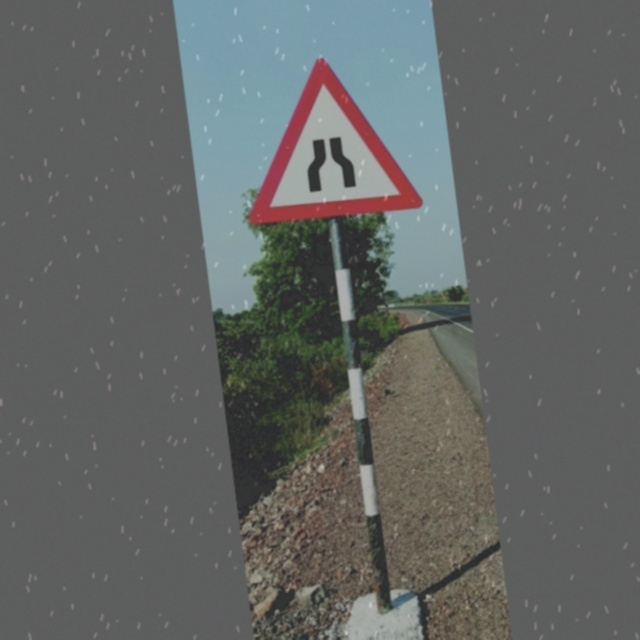Narrow_Road_Ahead: (234, 50, 425, 231)
